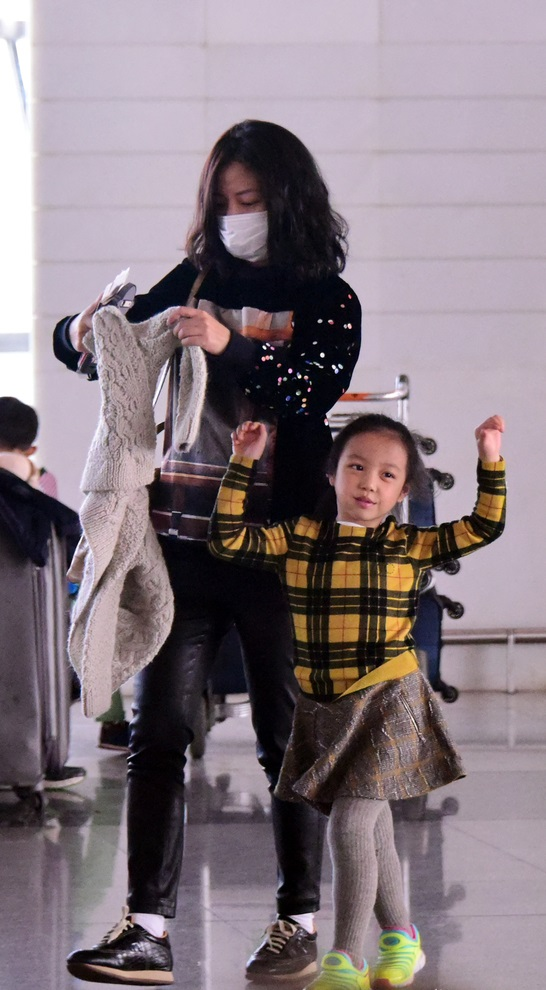face: (337, 429, 403, 519)
face_mask: (214, 154, 271, 261)
